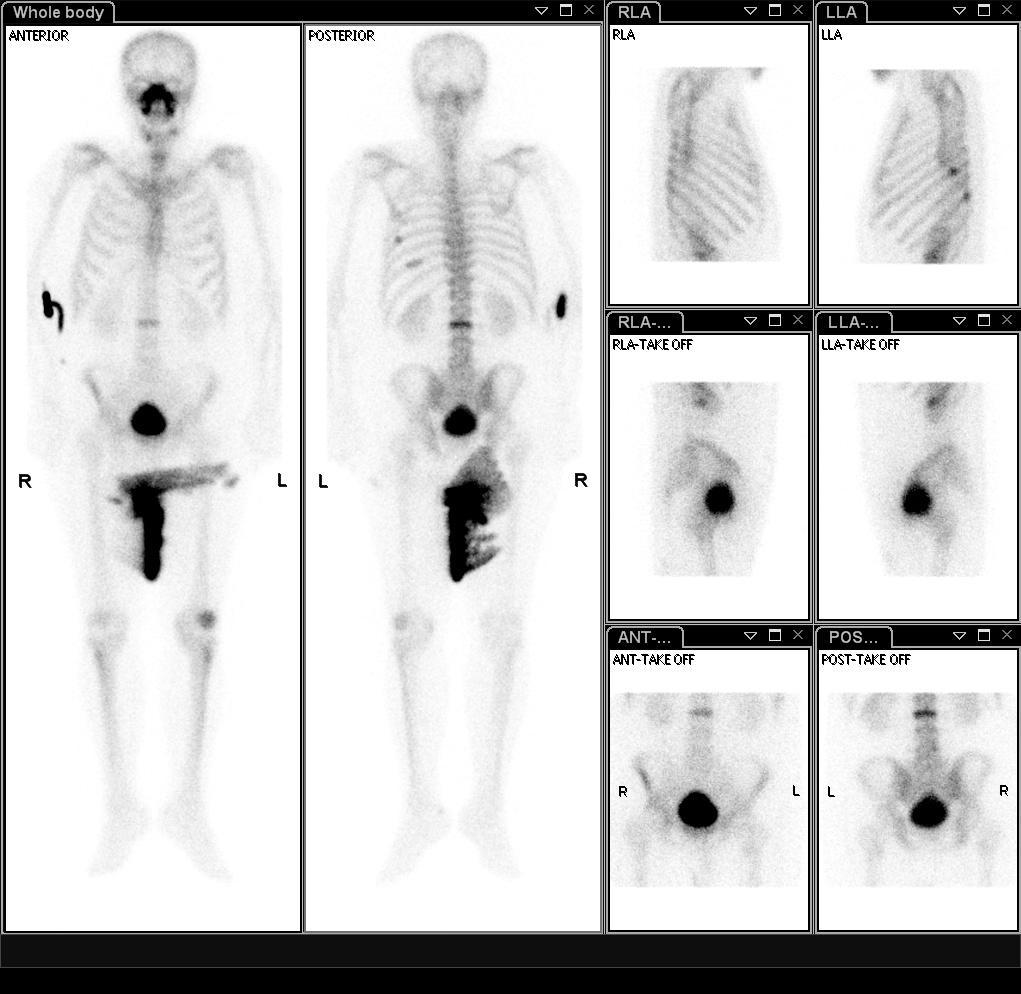person: (4, 24, 600, 933)
